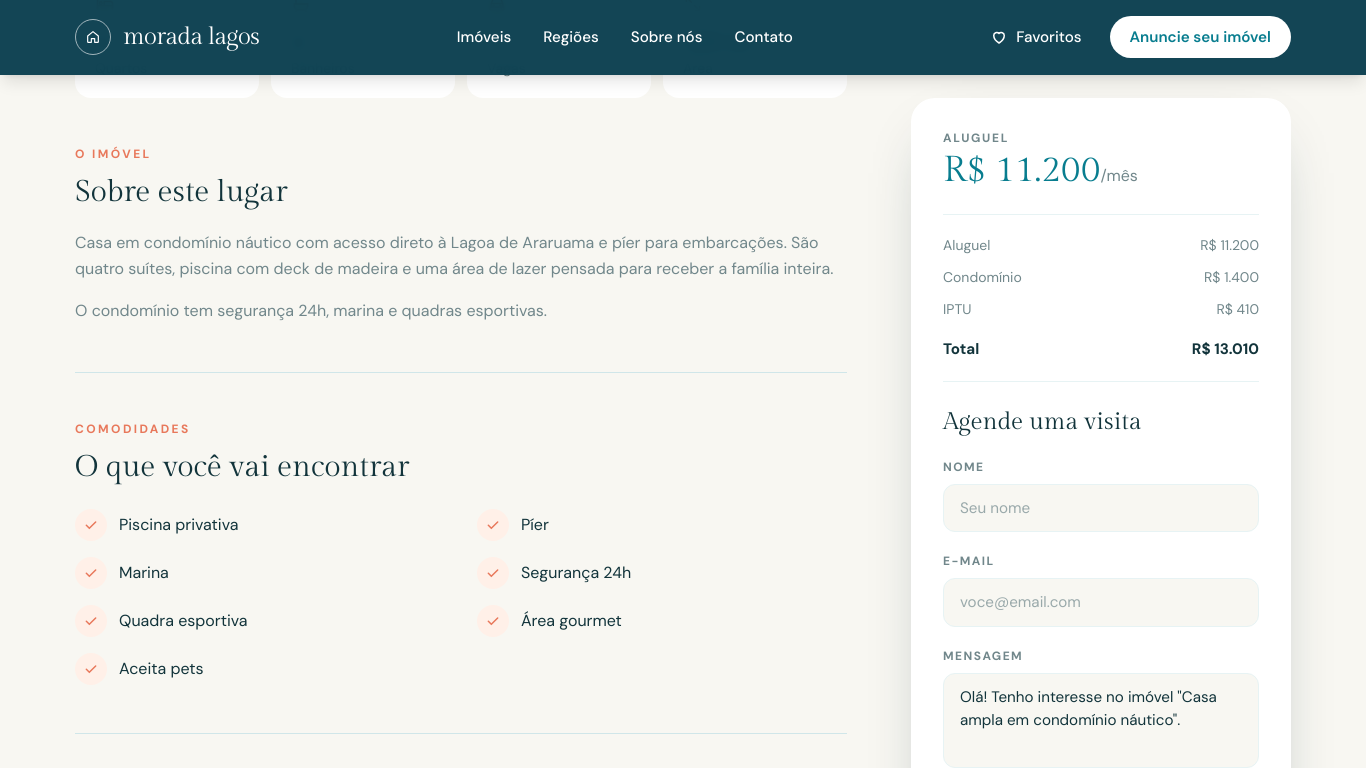
Test: Página do imóvel › envia o pedido de visita
(page scrolled)
Type "Ana" into the field labelled "Nome". click: (1101, 508)
box: [943,484,1259,532]
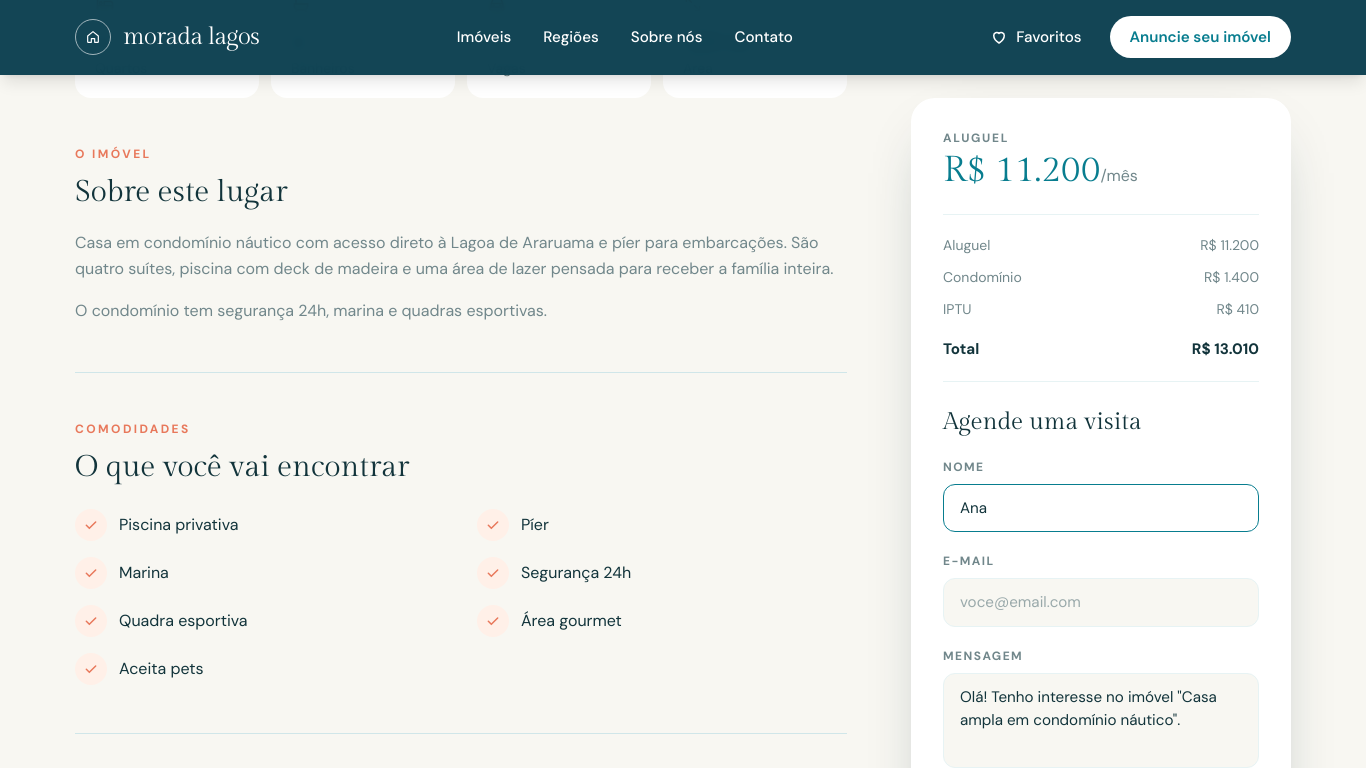
Type "ana@example.com" into the field labelled "E-mail". click: (1101, 603)
box: [943,578,1259,627]
(page scrolled)
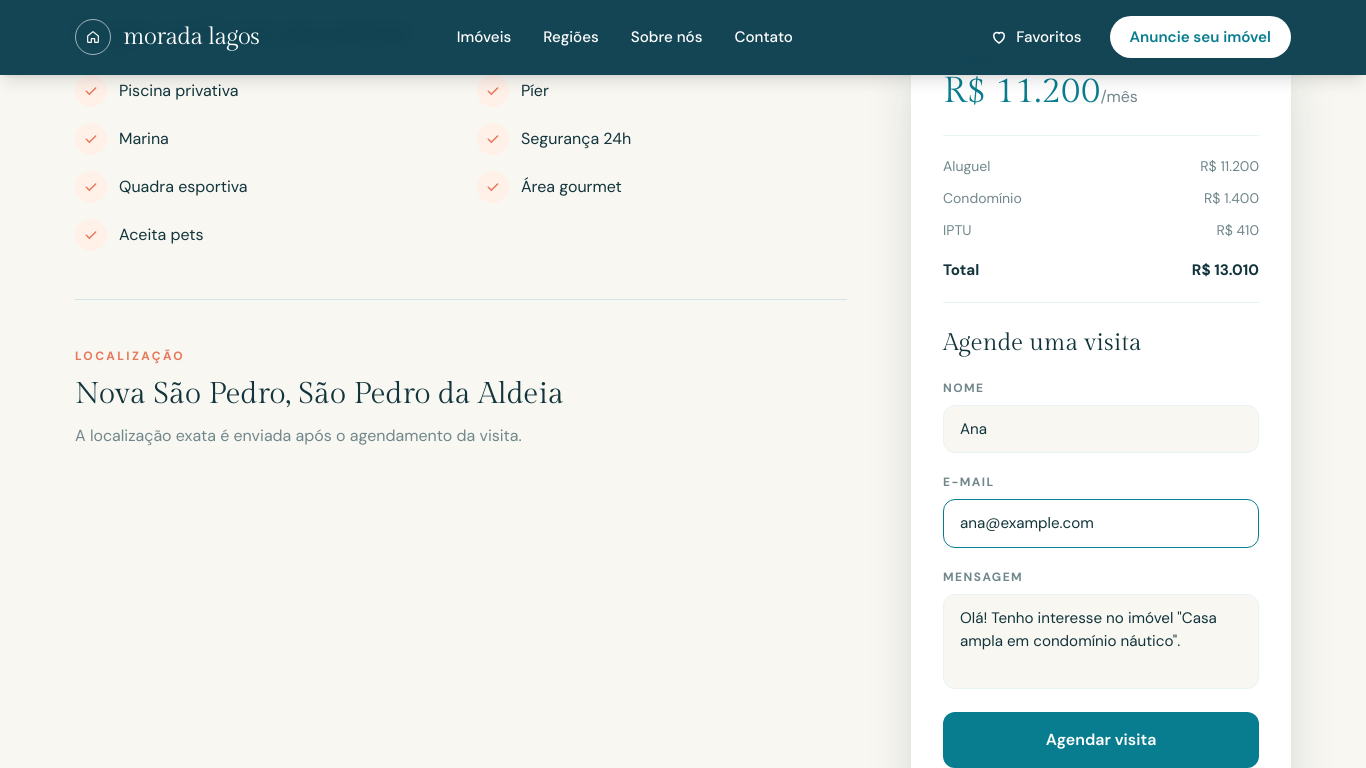
Click the button "Agendar visita". click: click(1101, 740)
box: [943,712,1259,767]
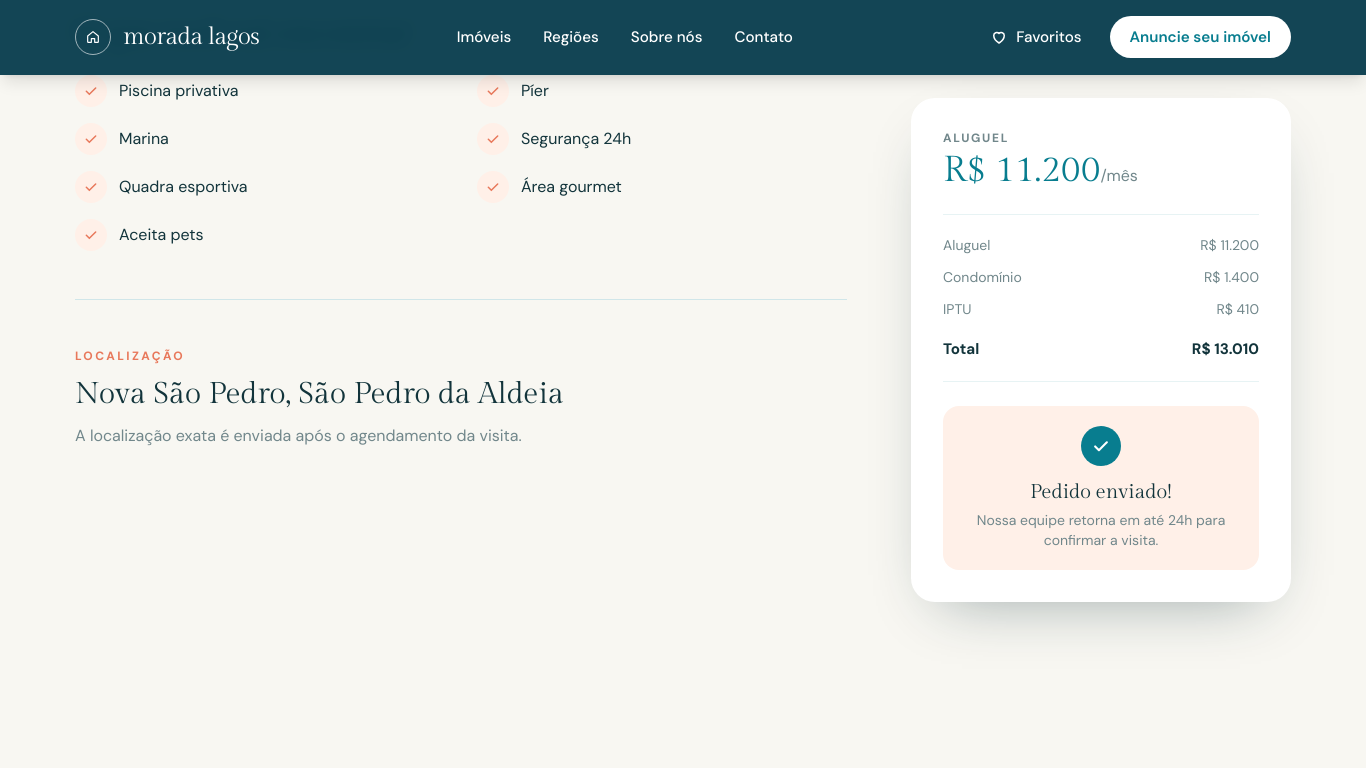
Now the message shows "Pedido enviado!", box [1030,480,1172,504]
